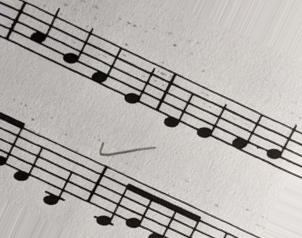A: (28, 3, 60, 66)
D: (11, 124, 46, 184), (161, 69, 194, 130)
E: (122, 50, 157, 114), (196, 84, 230, 146)
F: (229, 99, 266, 166), (90, 33, 124, 96)
G: (61, 19, 94, 83), (264, 117, 298, 178)
